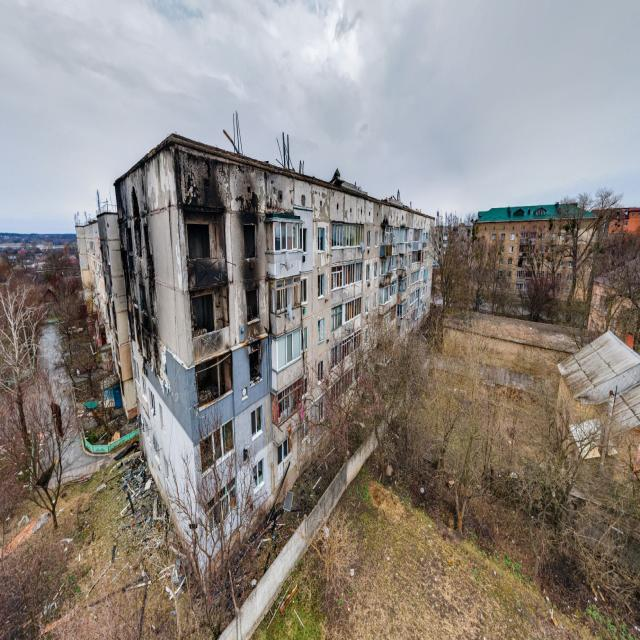broken_window: (194, 351, 233, 409), (242, 222, 256, 260)
building: (77, 129, 437, 590)
